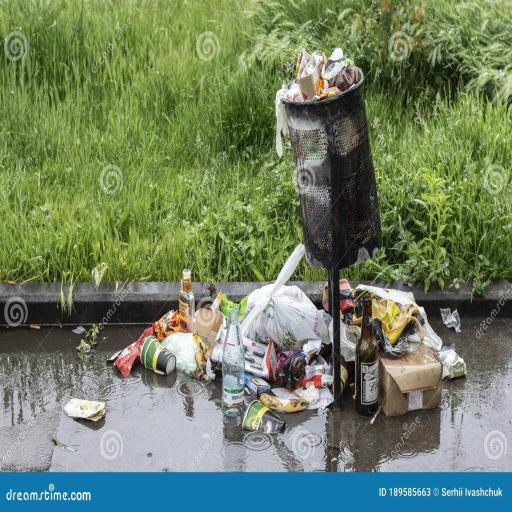Basura_fuera: (115, 48, 466, 433), (65, 399, 104, 420)
